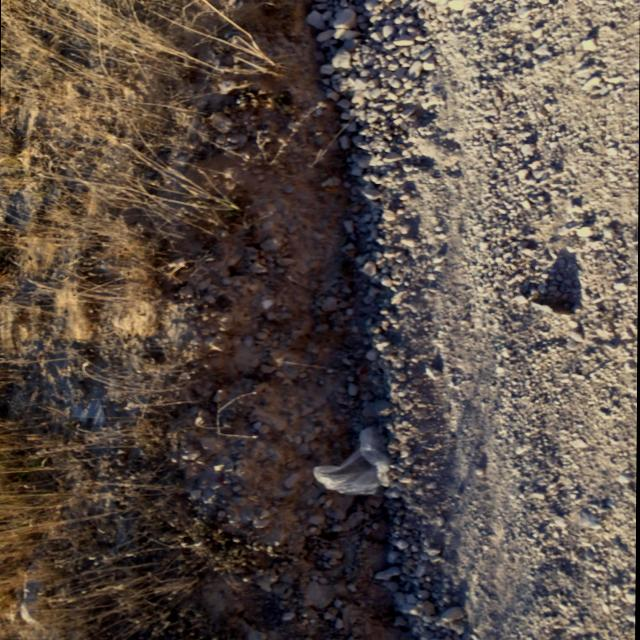Plastic: (309, 412, 404, 502)
